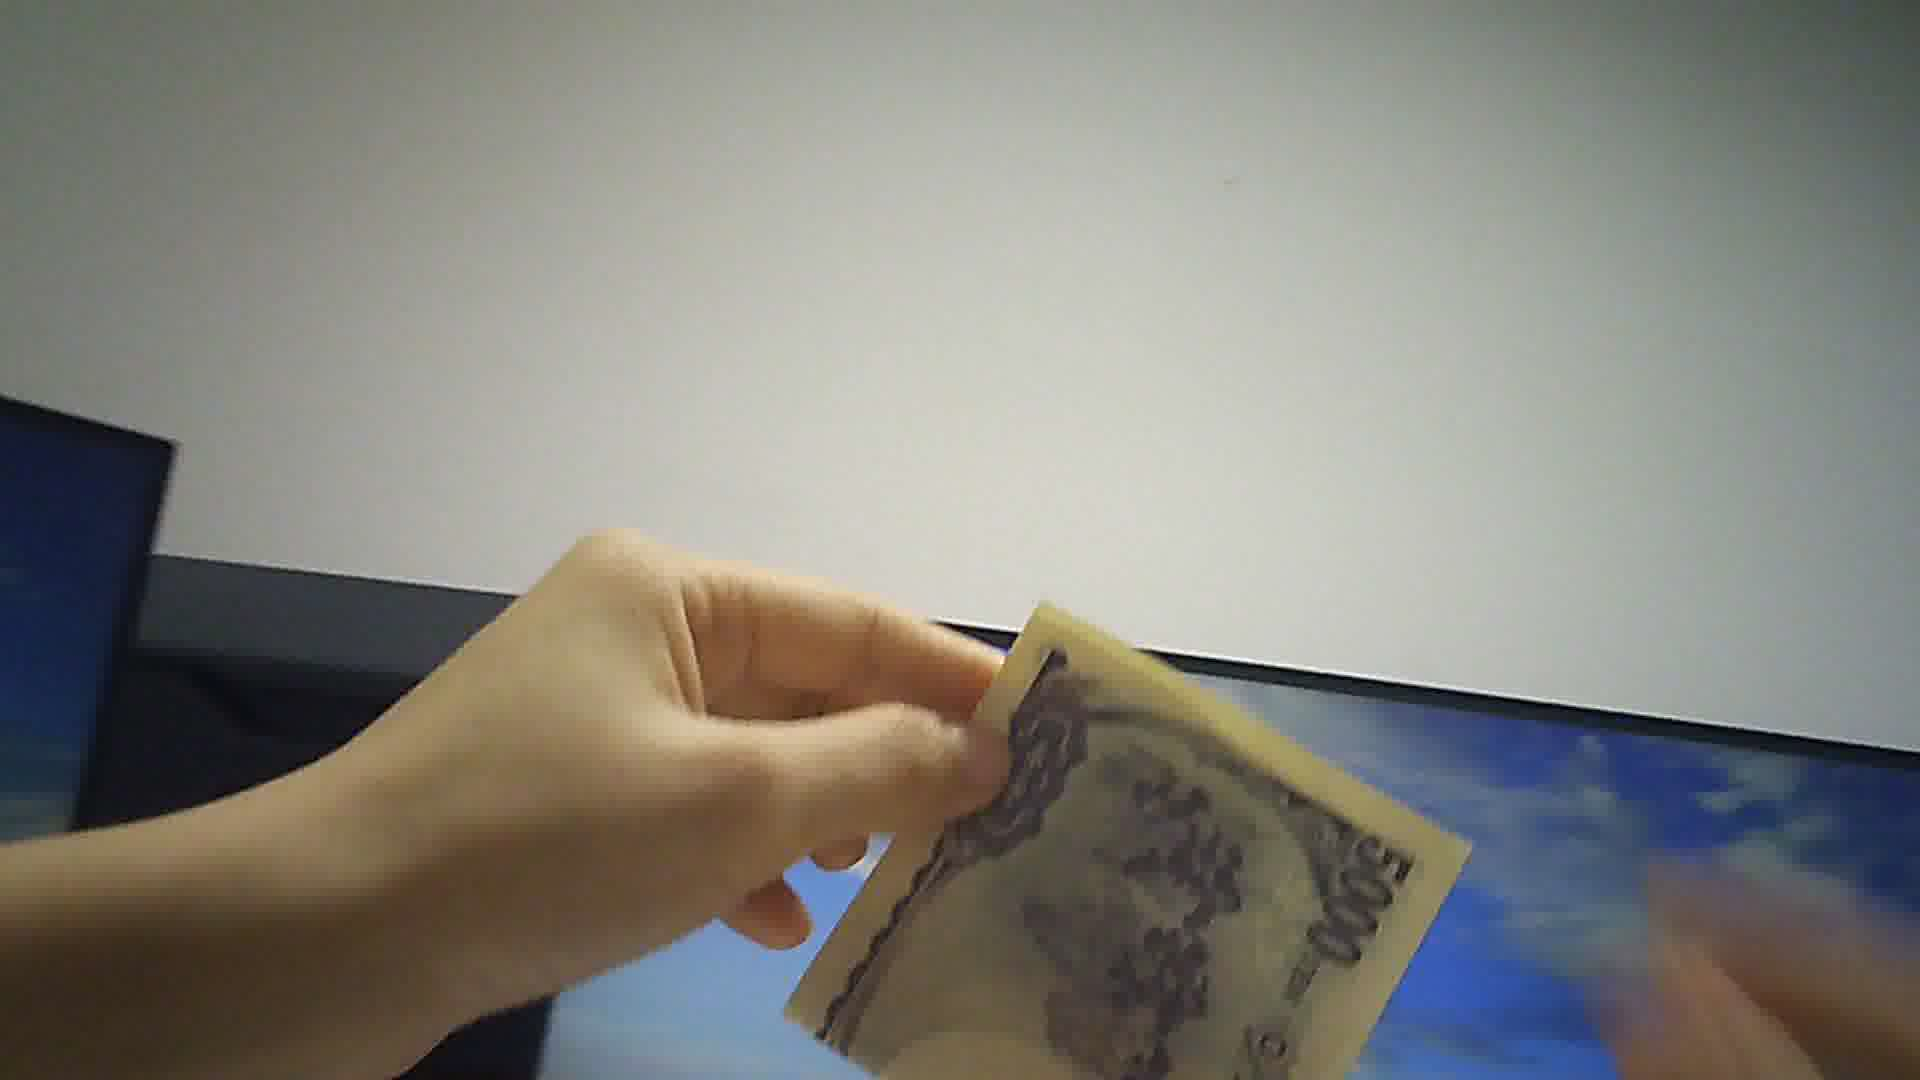5,000 Yen: (839, 568, 1455, 1079)
